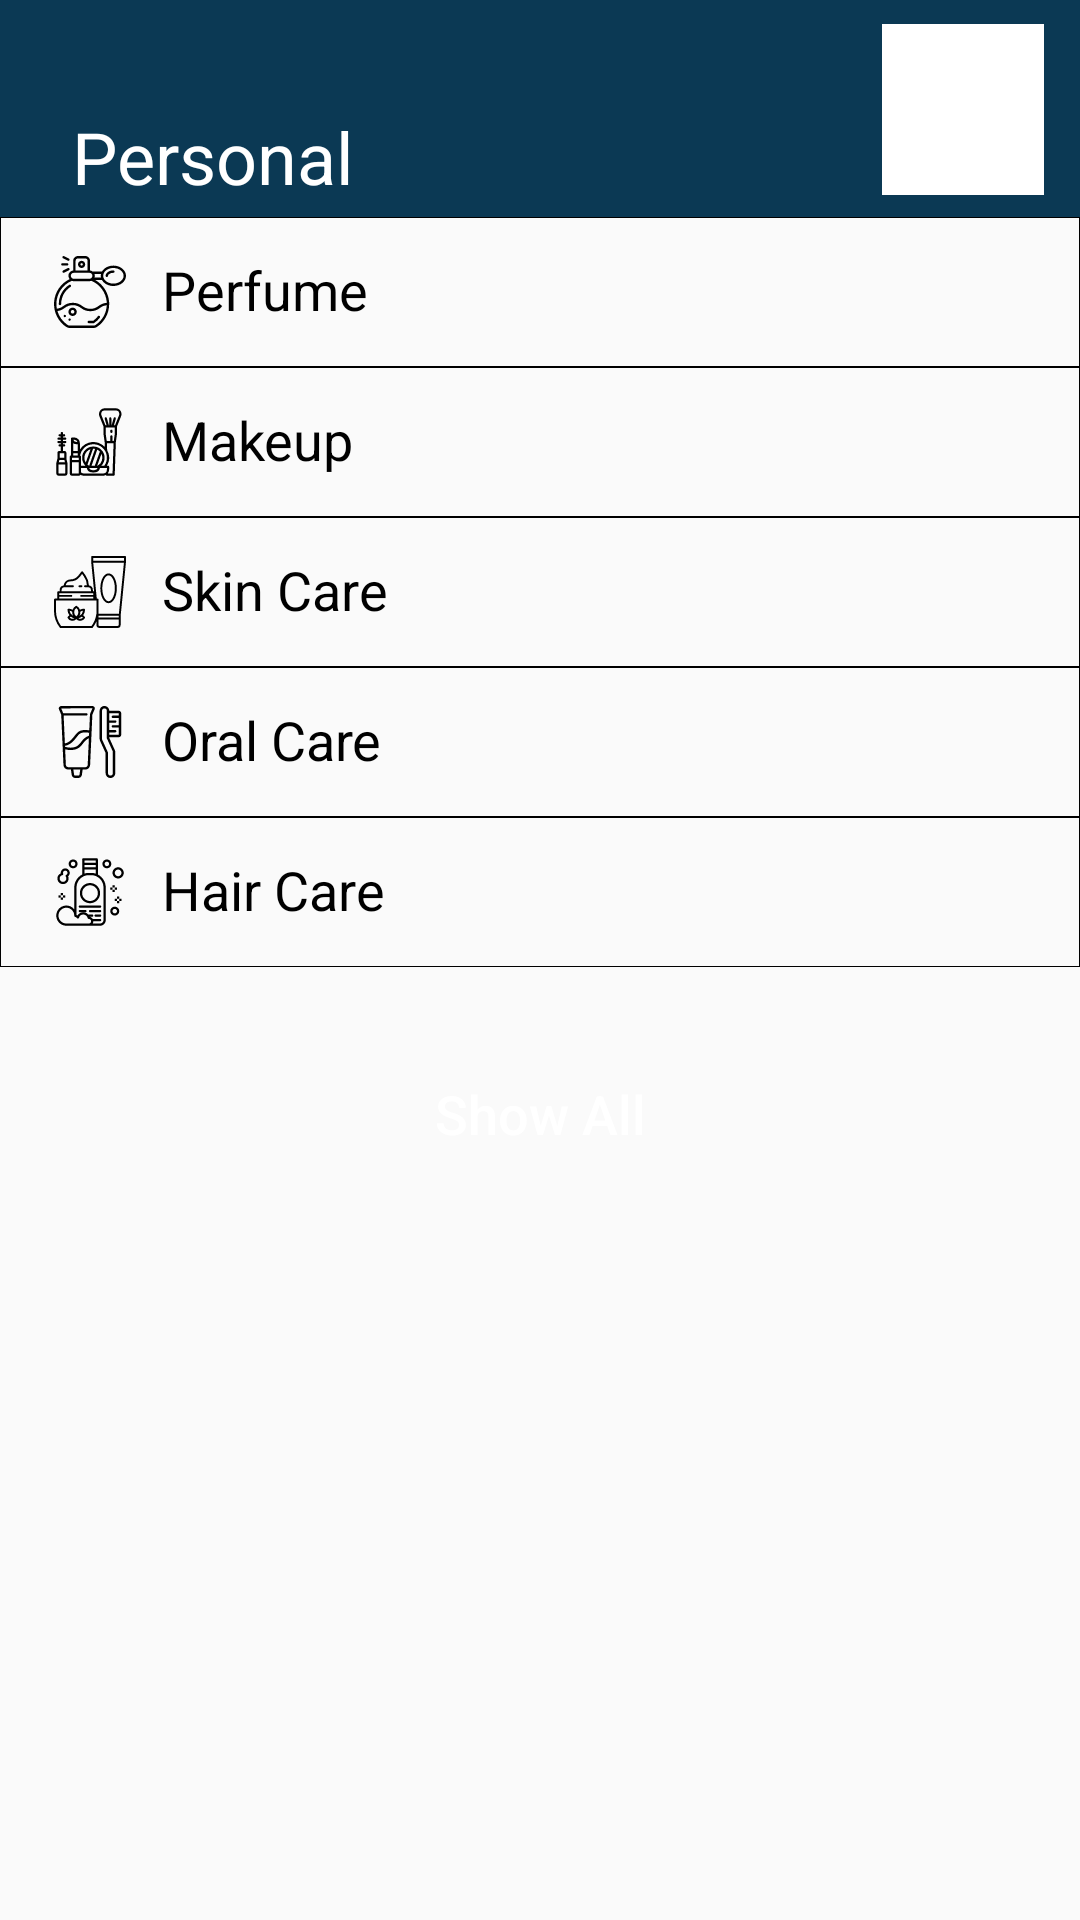

Where icons sit on this 1080px×1920px app screen, as [x1, y1, x2, y2]:
cream: [54, 556, 126, 628]
shampoo: [56, 858, 124, 926]
tooth paste: [58, 706, 122, 778]
